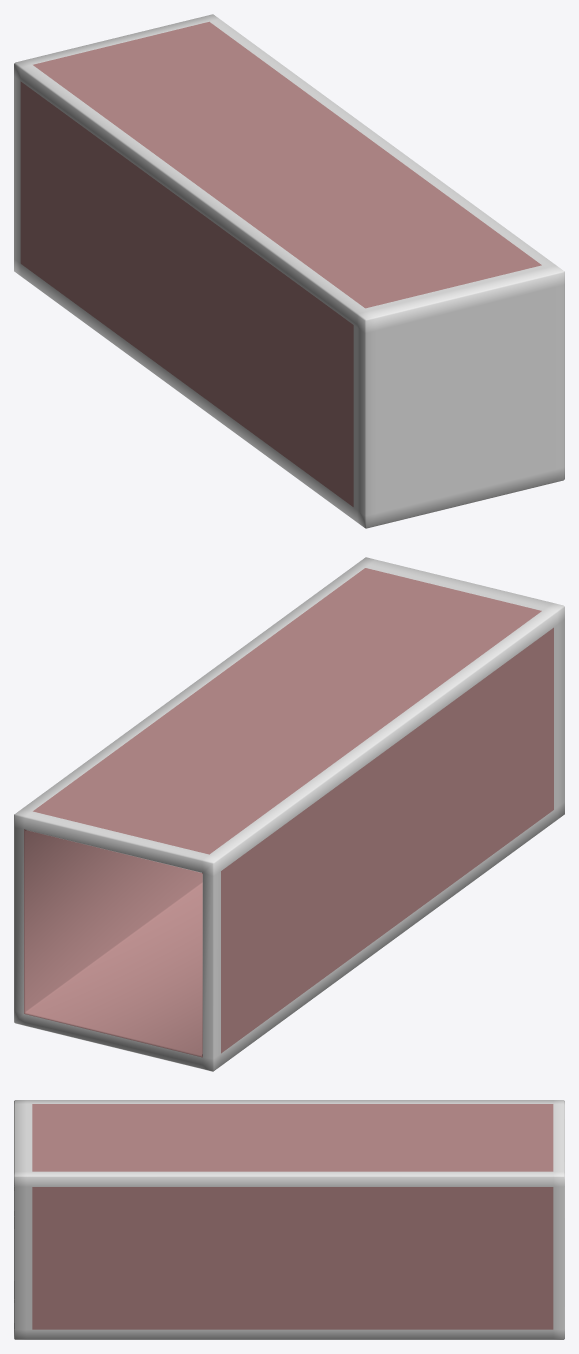
3 views of the same model, one above another, from view 1: azimuth 30°, elevation 25°; view 2: azimuth 150°, elevation 25°; view 3: azimuth 270°, elevation 25° (orthographic). The views are drawn at different scales.
Parts seen in each view (by area): view 1: Cube.001; view 2: Cube.001; view 3: Cube.001.
Part boxes in pixels (x1,y1,x2,y2): Cube.001: [14, 14, 564, 528]; Cube.001: [14, 557, 564, 1071]; Cube.001: [14, 1100, 564, 1339].
Bounding box in the file's own units: 80 × 80 × 243.
